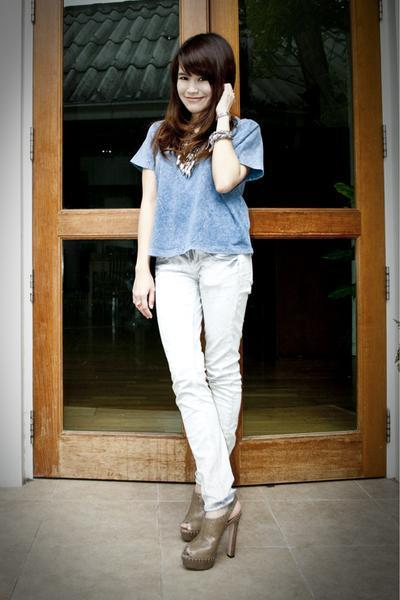pants: (156, 255, 252, 510)
shirt: (132, 118, 263, 275)
shoe: (180, 488, 241, 570)
